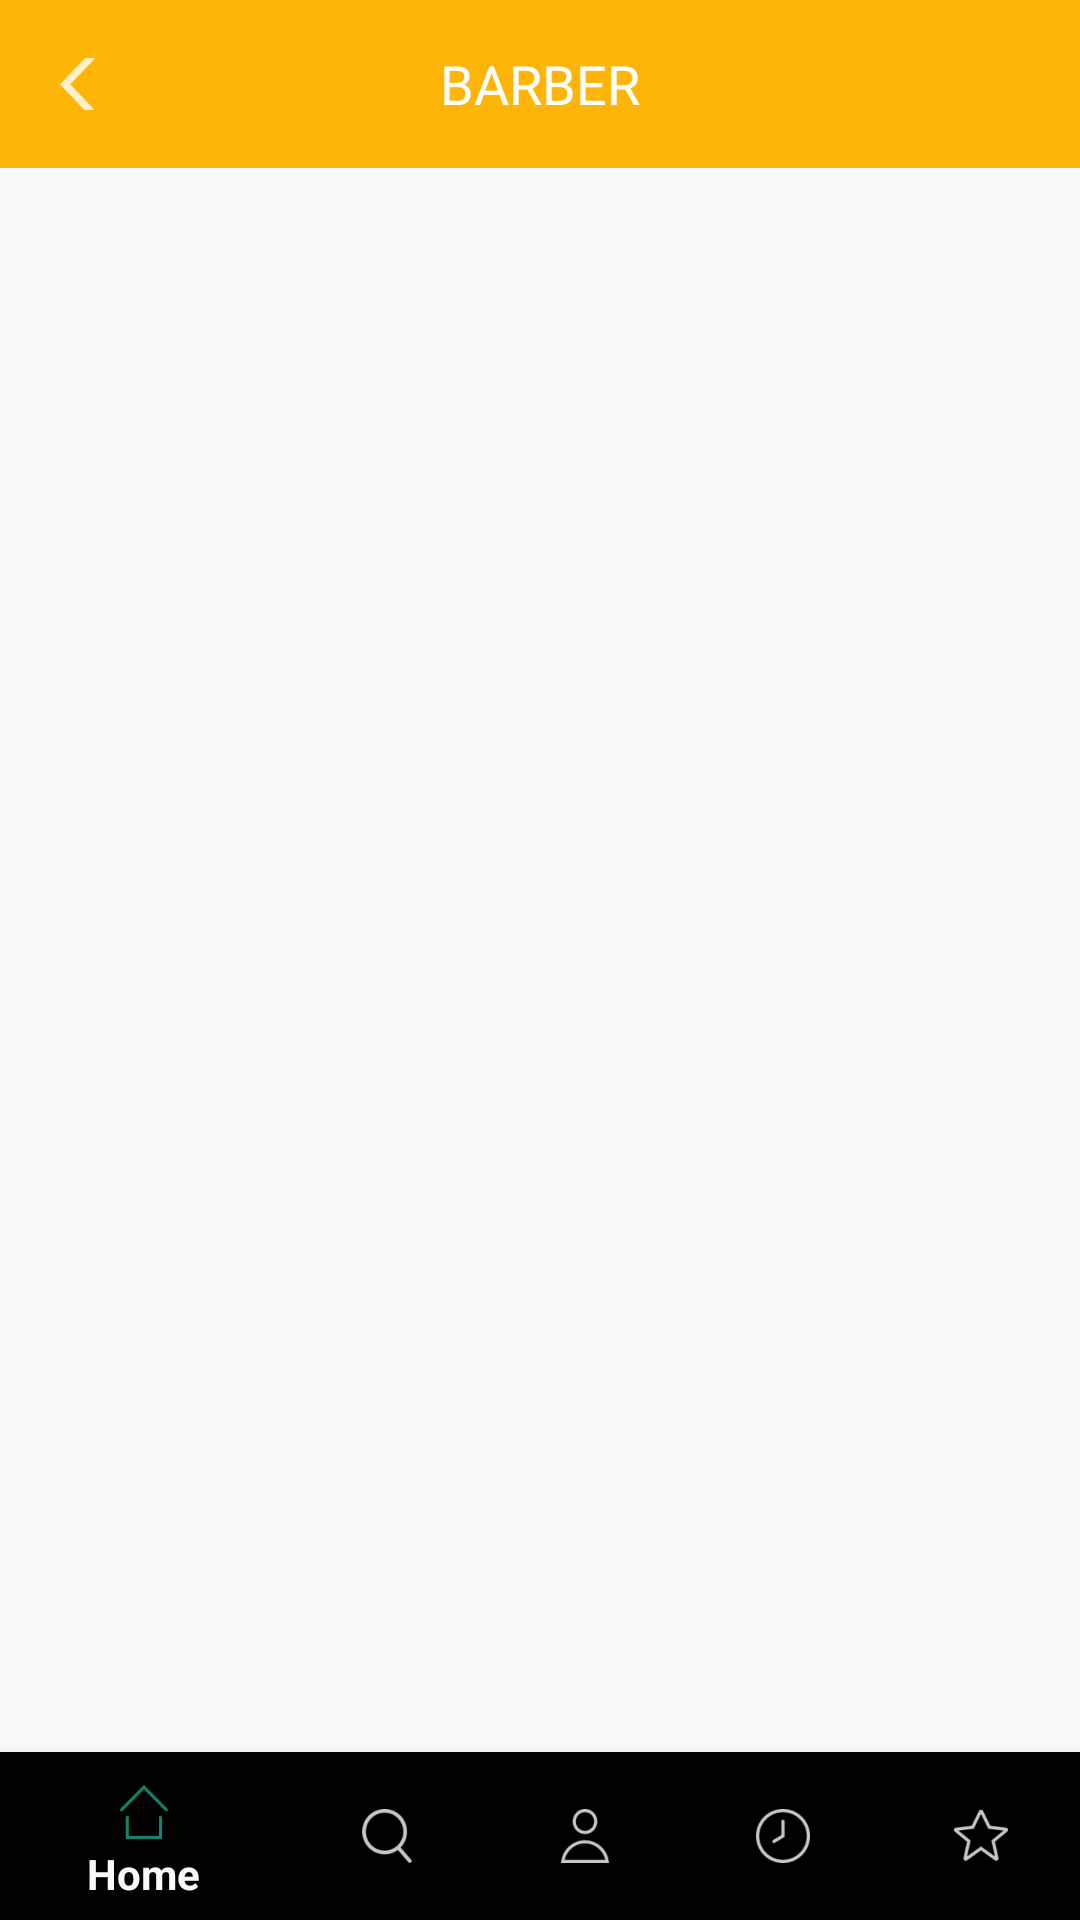

Icon bounding boxes for this 1080px×1920px phone screenshot, format (x1, y1, x2, y2):
back: (60, 58, 95, 110)
